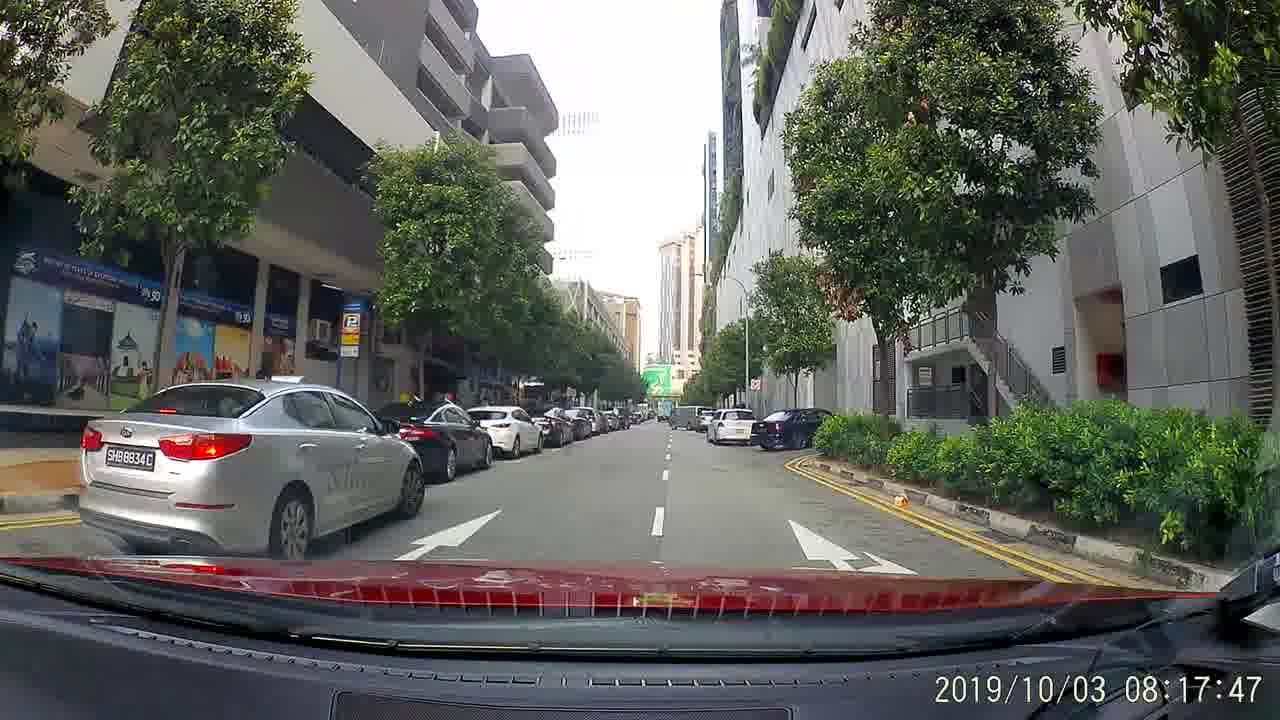car: (63, 371, 427, 555), (365, 397, 492, 485), (457, 404, 544, 461), (752, 407, 843, 451), (526, 407, 579, 448), (706, 406, 755, 447), (563, 410, 596, 437)
